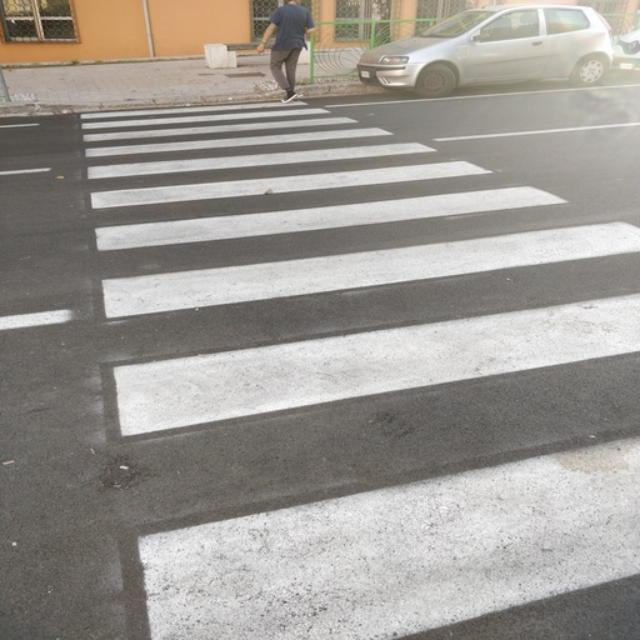sidewalk: (76, 97, 640, 640)
